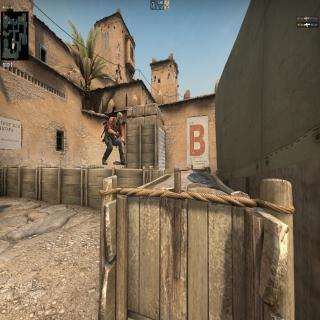T-Head: (116, 110, 124, 126)
